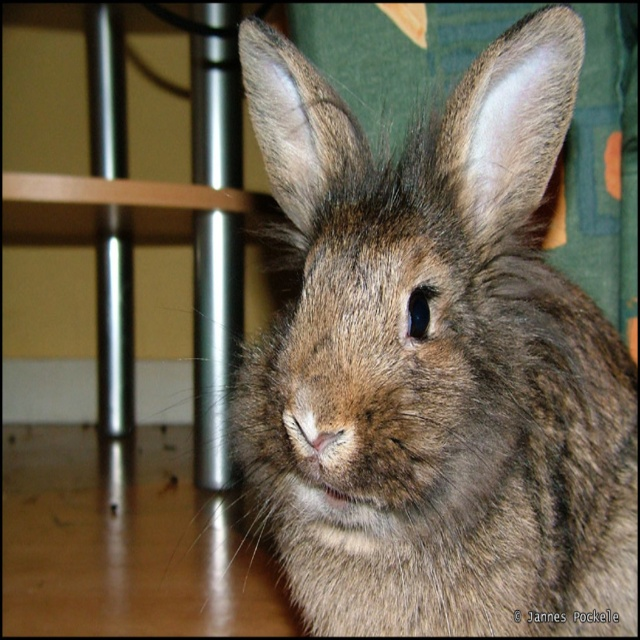Rabbit: (147, 3, 638, 636)
